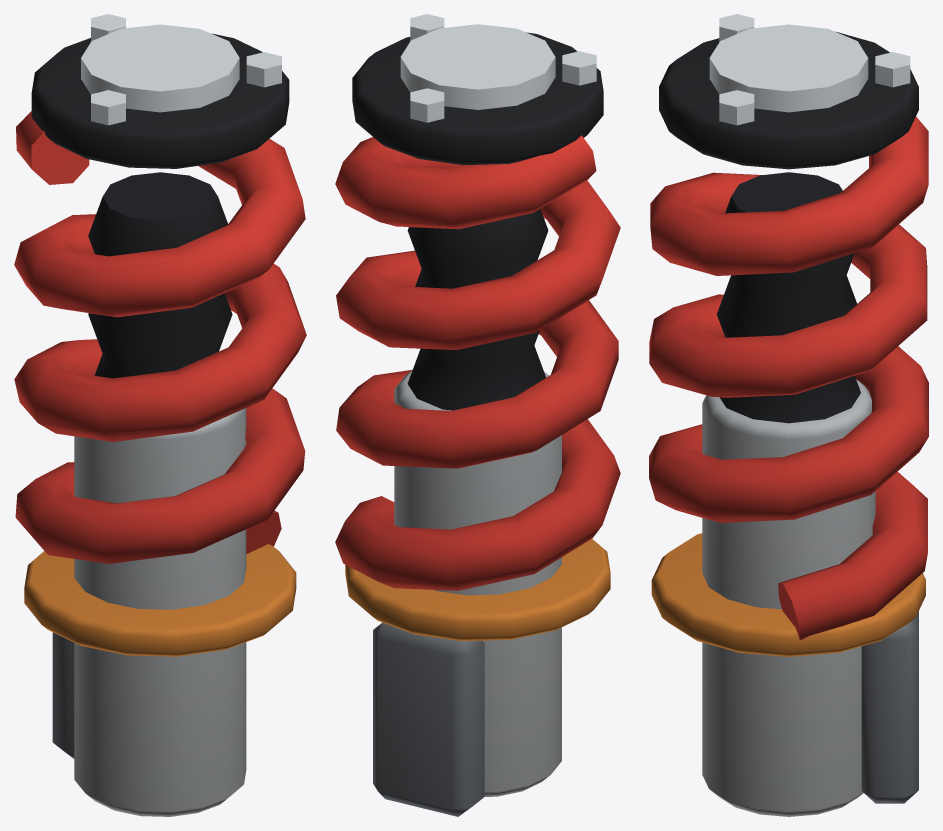
The model's file is SM_Strut_Spring_01.glb.
3 views of the same model, side by side, from view 1: azimuth 30°, elevation 25°; view 2: azimuth 150°, elevation 25°; view 3: azimuth 270°, elevation 25° (orthographic). The views are drawn at different scales.
Parts seen in each view (by area): view 1: SM_Strut_Spring_01; view 2: SM_Strut_Spring_01; view 3: SM_Strut_Spring_01.
Part boxes in pixels (x1=…): SM_Strut_Spring_01: x1=14, y1=14, x2=306, y2=816; SM_Strut_Spring_01: x1=335, y1=14, x2=620, y2=816; SM_Strut_Spring_01: x1=649, y1=14, x2=928, y2=816.
Bounding box in the file's own units: 0.2038 × 0.556 × 0.194.
Materials: 1 (1 with a texture image).
